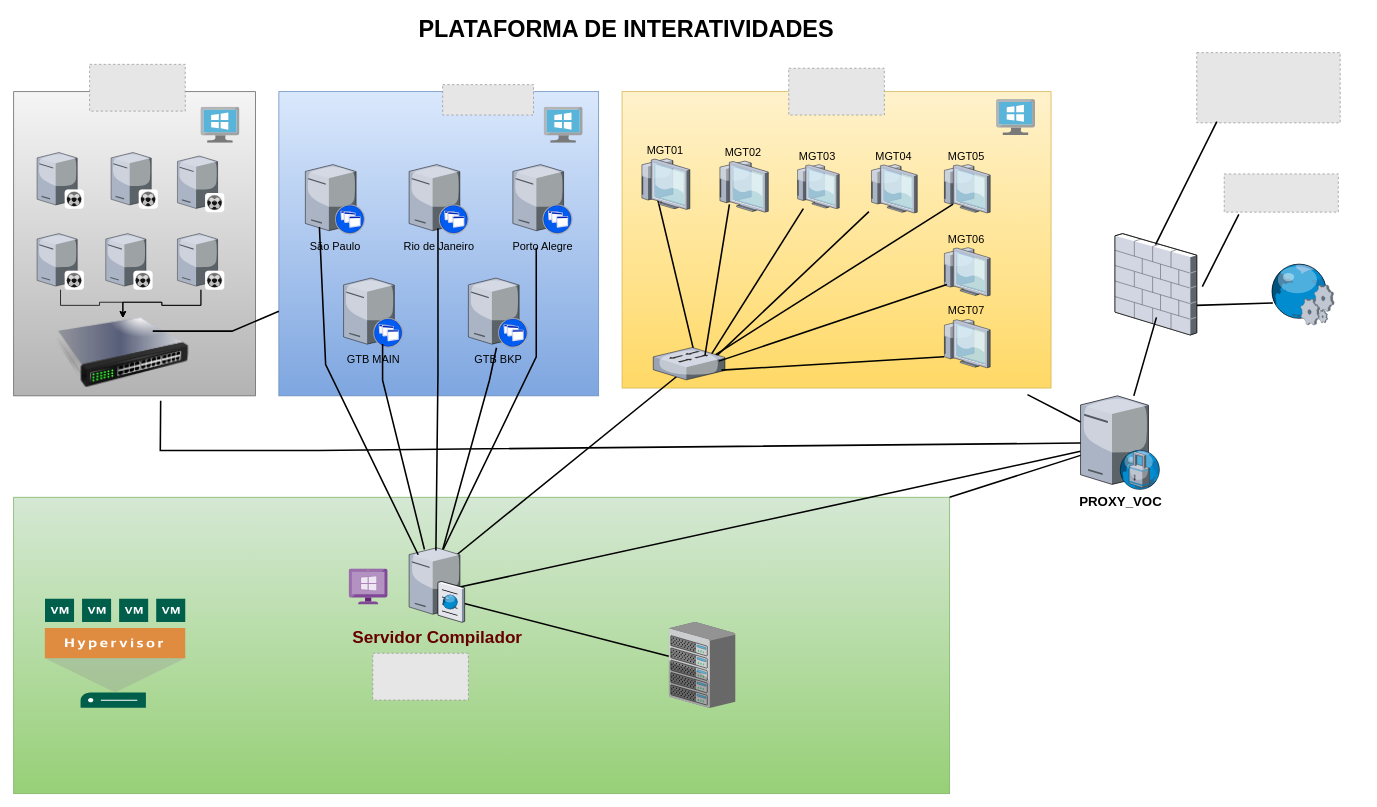
The diagram is 1377 pixels wide and 807 high, and some of its shapes have lost their labels. Grey dashed boxes stand in for pictures. The box of each missing label's shape, as (x1, y1, x2, y2) in pixels:
Backoffice TV Digital: (13, 496, 950, 794)
CAS HFC: (621, 91, 1051, 388)
CLIMA TEMPO: (1269, 263, 1334, 324)
DNS: (668, 622, 735, 707)
Notifiy: (13, 91, 255, 396)
Openstreamers: (278, 91, 599, 396)
